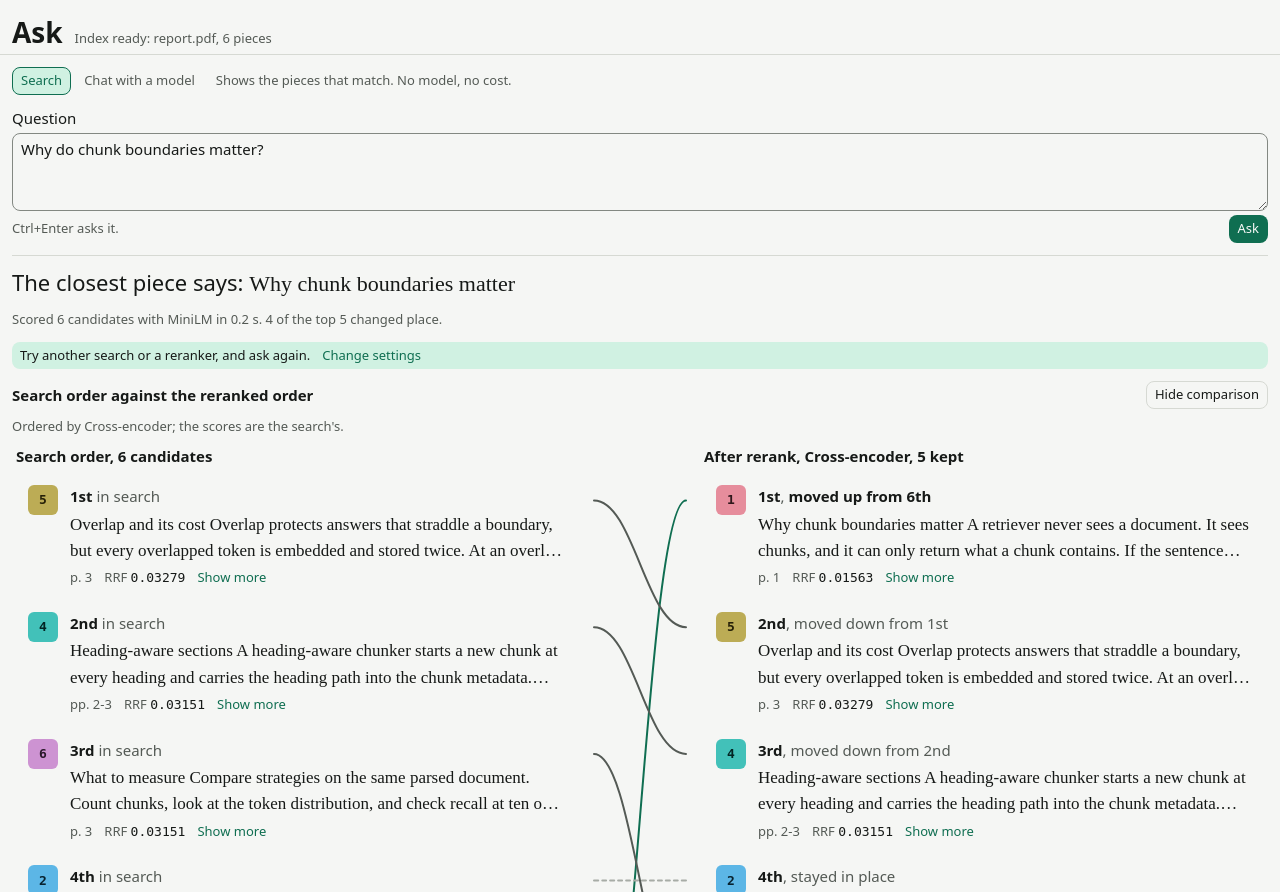
the two result motions › new lists fade in when they first appear, and not again on collapse or expand
This screenshot has width=1280, height=892.
Click the button "Hide comparison": (1207, 395) 1146,381 -> 1268,409
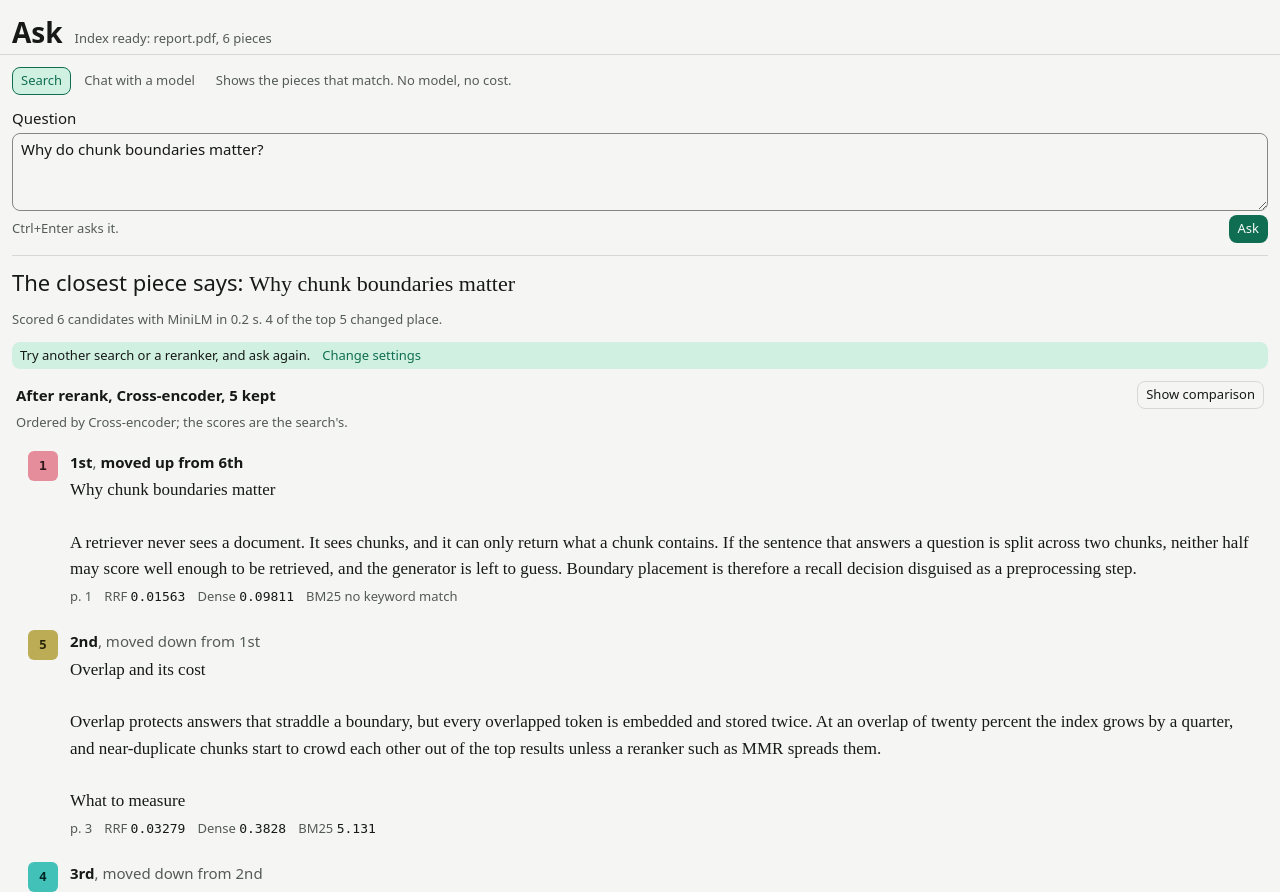
Click the button "Show comparison": (1201, 395) 1137,381 -> 1264,409
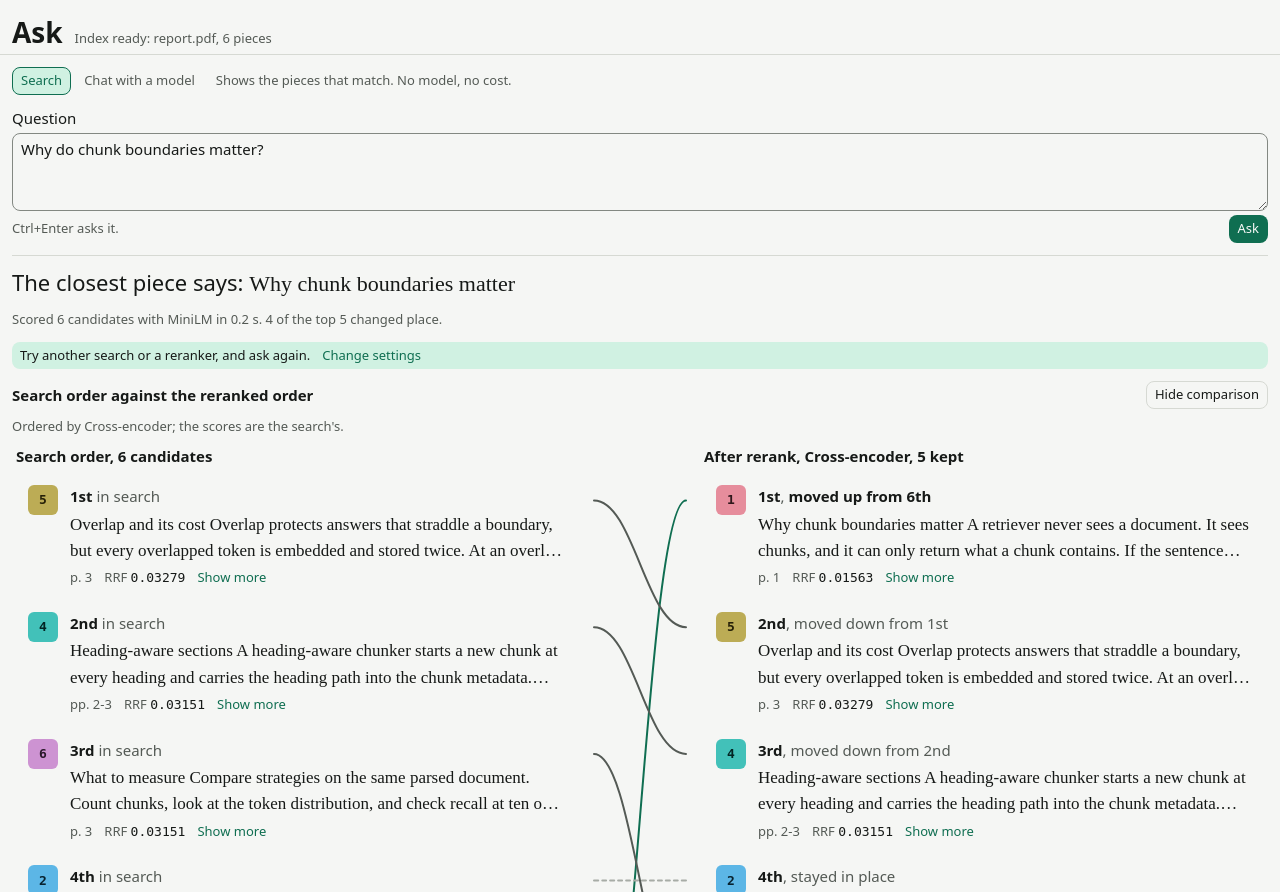
Check: the heading "Search order, 6 candidates" is shown, box 16,445 -> 212,467
